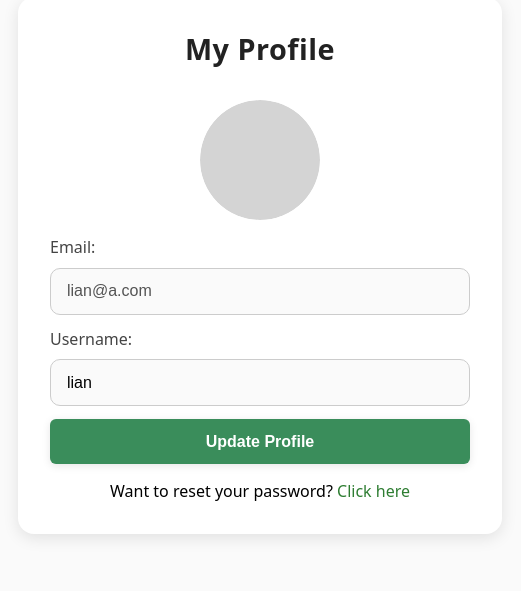
Test: Profile page › sends reset password email
Click the text "Click here": (374, 491) [337, 480, 410, 502]
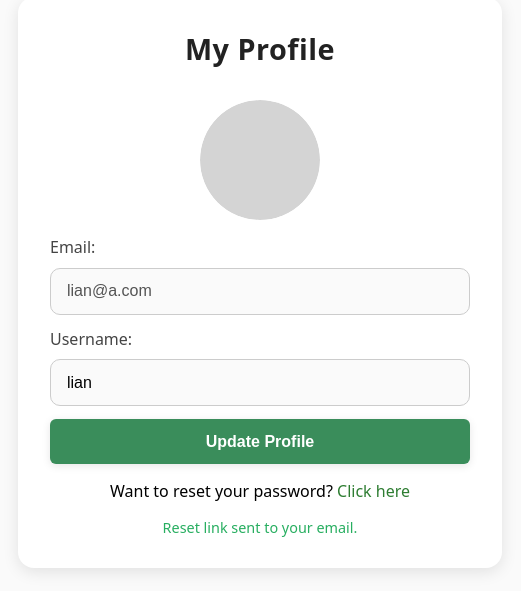
Now the text "Reset link sent to your email." is shown, box [163, 518, 357, 537]
